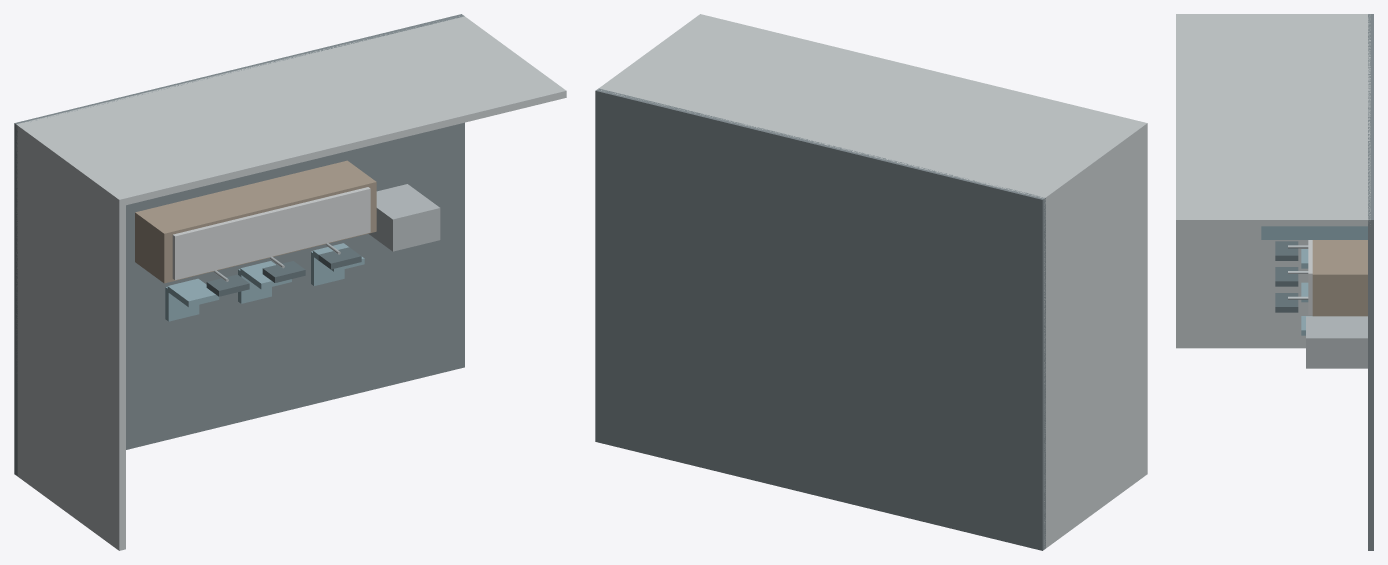
The model's file is nursing-station-high.glb.
3 renders of one model, left to right at view 1: azimuth 30°, elevation 25°; view 2: azimuth 150°, elevation 25°; view 3: azimuth 270°, elevation 25°, orthographic. The views are drawn at different scales.
Parts seen in each view (by area): view 1: floor, wall_back, wall_left, desk_top, central_desk, medication_trolley, chair_back_-1.3; view 2: floor, wall_back, wall_left; view 3: wall_back, wall_left, central_desk, medication_trolley, floor, storage_right, monitor_0, monitor_20, monitor_10, desk_top.
Part boxes in pixels (x1=…): floor: x1=14, y1=14, x2=464, y2=476; wall_back: x1=16, y1=16, x2=566, y2=206; wall_left: x1=16, y1=122, x2=125, y2=550; desk_top: x1=172, y1=187, x2=370, y2=280; central_desk: x1=135, y1=160, x2=376, y2=283; medication_trolley: x1=368, y1=184, x2=440, y2=251; chair_back_-1.3: x1=167, y1=278, x2=219, y2=307; floor: x1=595, y1=88, x2=1045, y2=550; wall_back: x1=598, y1=14, x2=1147, y2=204; wall_left: x1=1040, y1=122, x2=1147, y2=548; wall_back: x1=1176, y1=14, x2=1370, y2=226; wall_left: x1=1176, y1=14, x2=1365, y2=348; central_desk: x1=1312, y1=240, x2=1367, y2=316; medication_trolley: x1=1306, y1=316, x2=1367, y2=368; floor: x1=1368, y1=14, x2=1373, y2=550; storage_right: x1=1261, y1=226, x2=1367, y2=239; monitor_0: x1=1275, y1=241, x2=1298, y2=260; monitor_20: x1=1275, y1=293, x2=1298, y2=312; monitor_10: x1=1275, y1=267, x2=1298, y2=286; desk_top: x1=1308, y1=240, x2=1312, y2=314.
Size of the model in its own units: 8 by 6 by 3.25.
